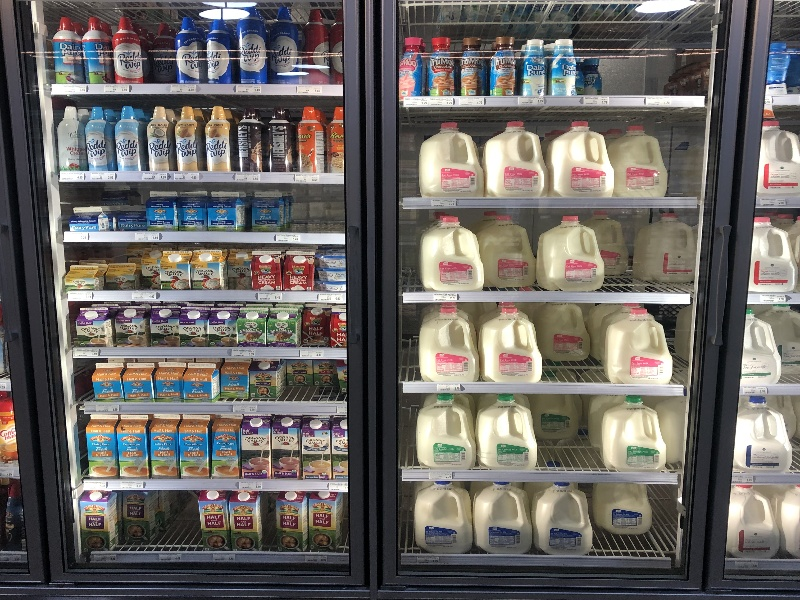void: (572, 24, 709, 101), (604, 220, 691, 290), (527, 398, 609, 471), (536, 311, 610, 381), (121, 496, 203, 546), (246, 194, 346, 233)
